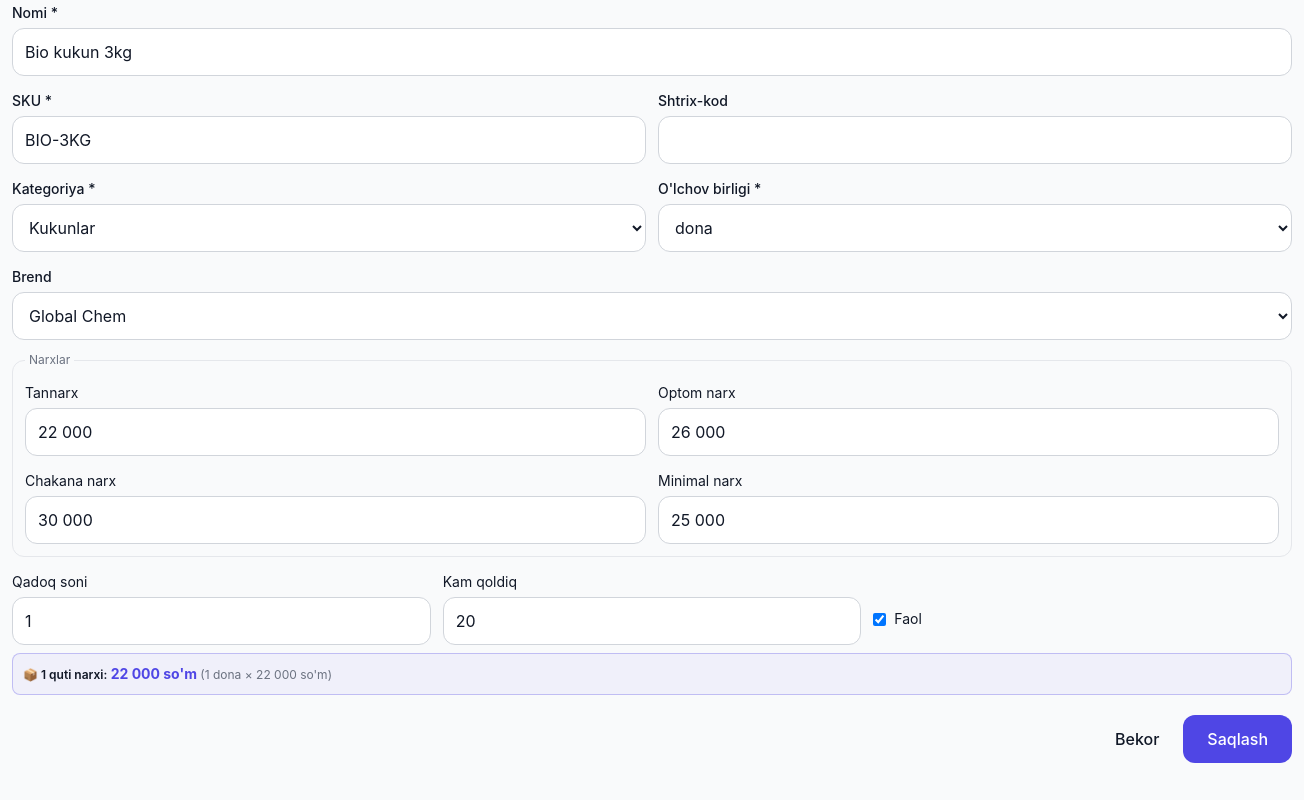
Test: ProductForm › server min_price xatosini "Minimal narx" maydoni ostida bir marta ko‘rsatadi
Click the button "Saqlash" at (1238, 739), box [1183,715,1292,763]
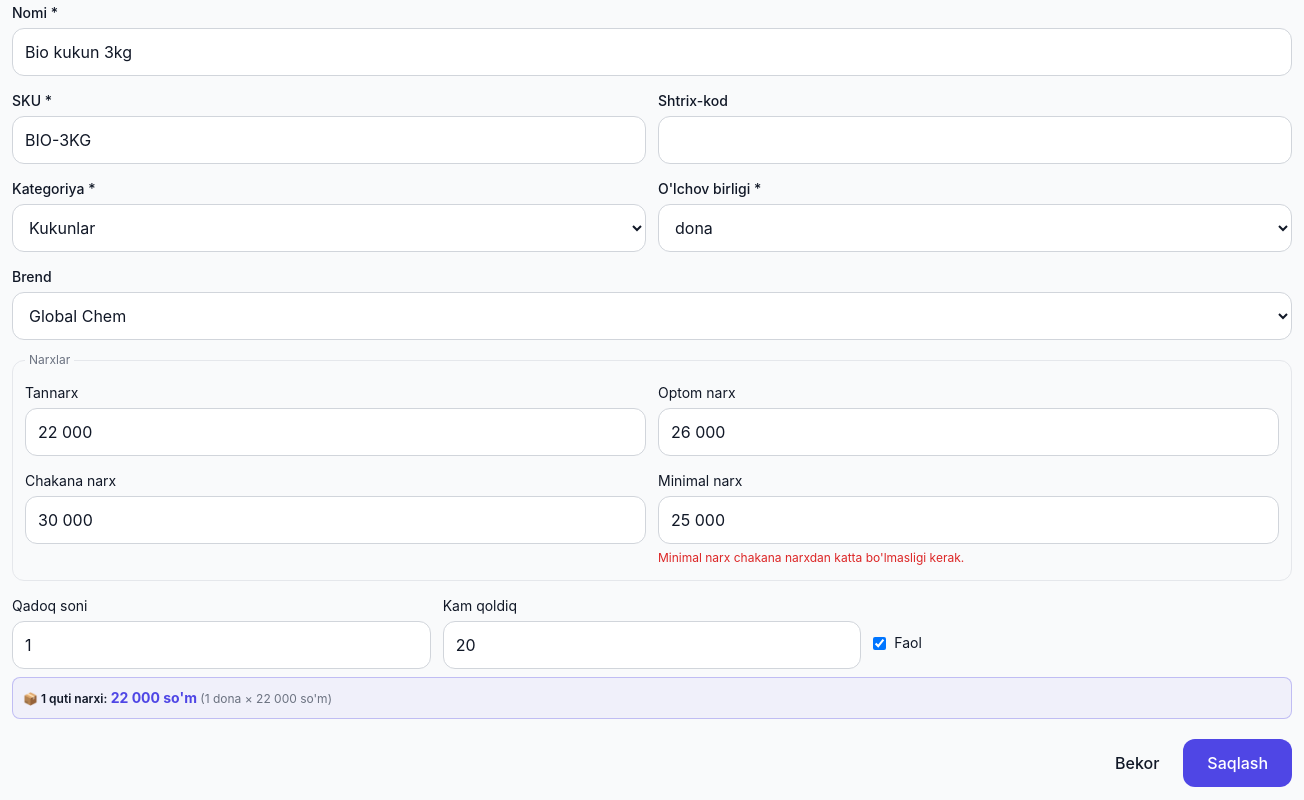
Check: the text "Minimal narx chakana narxdan katta bo'lmasligi kerak." is shown, box [658,550,964,565]
